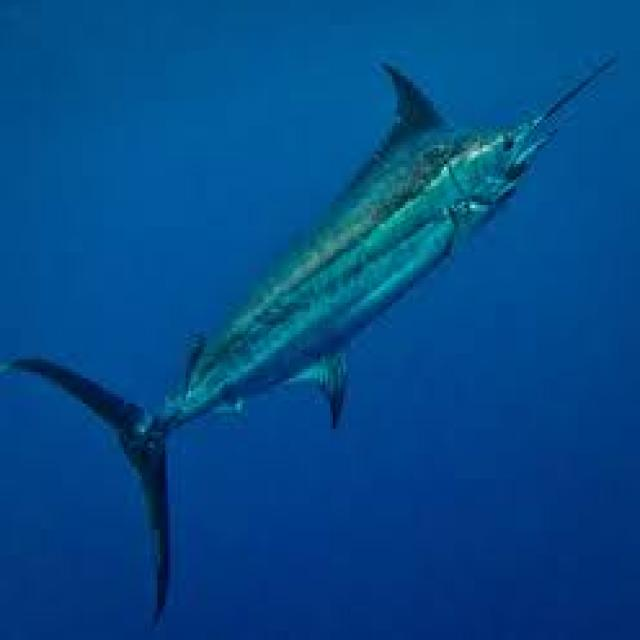Blue Marlin: (8, 54, 617, 624)
